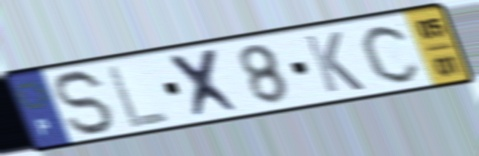8: (238, 42, 293, 107)
C: (359, 22, 425, 86)
K: (300, 29, 368, 95)
L: (103, 62, 174, 131)
S: (53, 67, 118, 139)
X: (164, 45, 247, 122)
